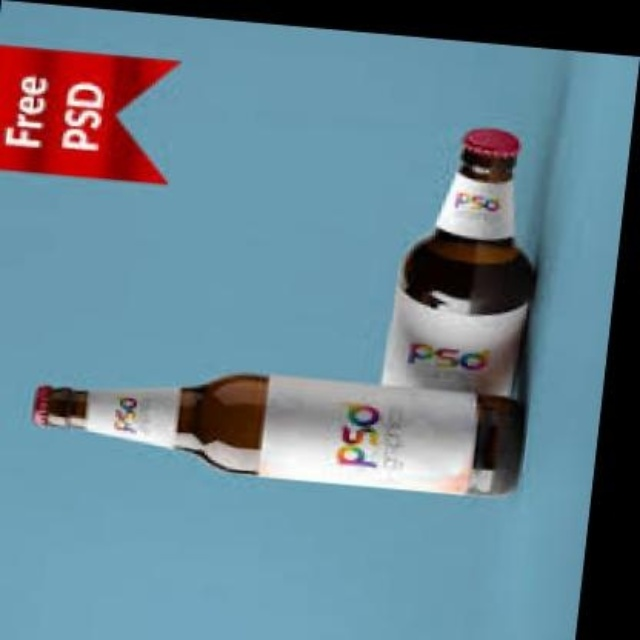trash: (32, 375, 522, 492), (383, 128, 534, 492)
